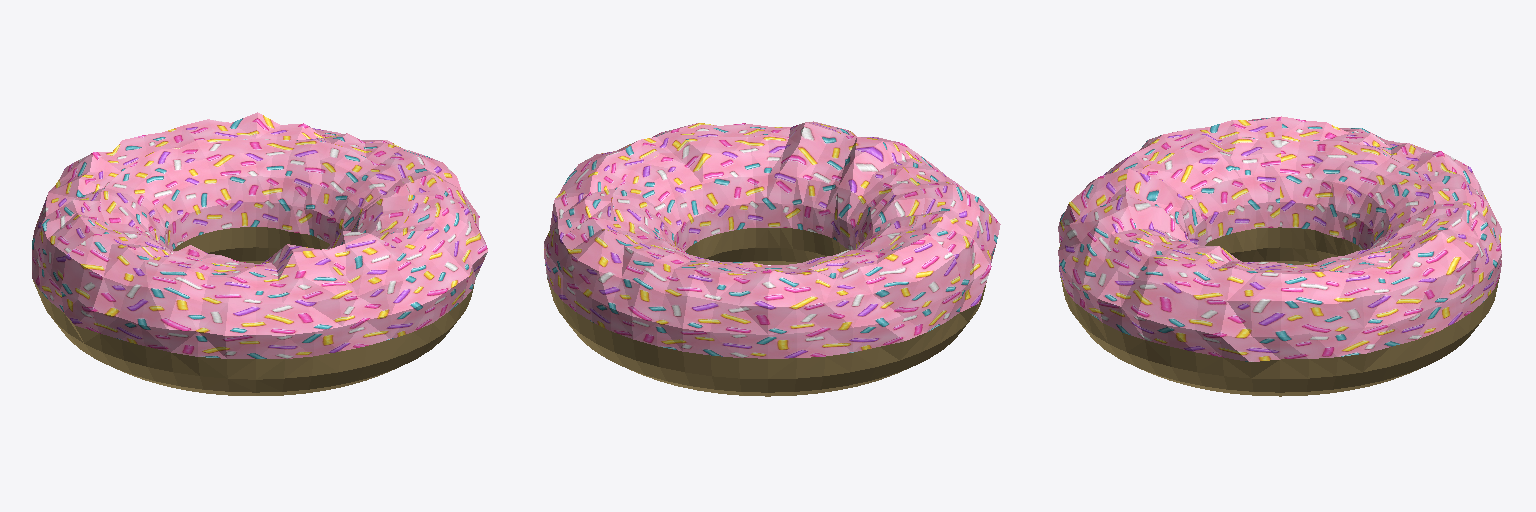
3 views of the same model, side by side, from view 1: azimuth 30°, elevation 25°; view 2: azimuth 150°, elevation 25°; view 3: azimuth 270°, elevation 25° (orthographic).
Parts seen in each view (by area): view 1: Torus.001; view 2: Torus.001; view 3: Torus.001.
Boxes of the visible parts, box(x1,y1,x2,y2) form: Torus.001: box(32, 112, 487, 395); Torus.001: box(544, 121, 1000, 396); Torus.001: box(1058, 116, 1501, 396).
Size of the model in its own units: 2.9 by 0.9684 by 2.84.
Materials: 2 (2 with a texture image).